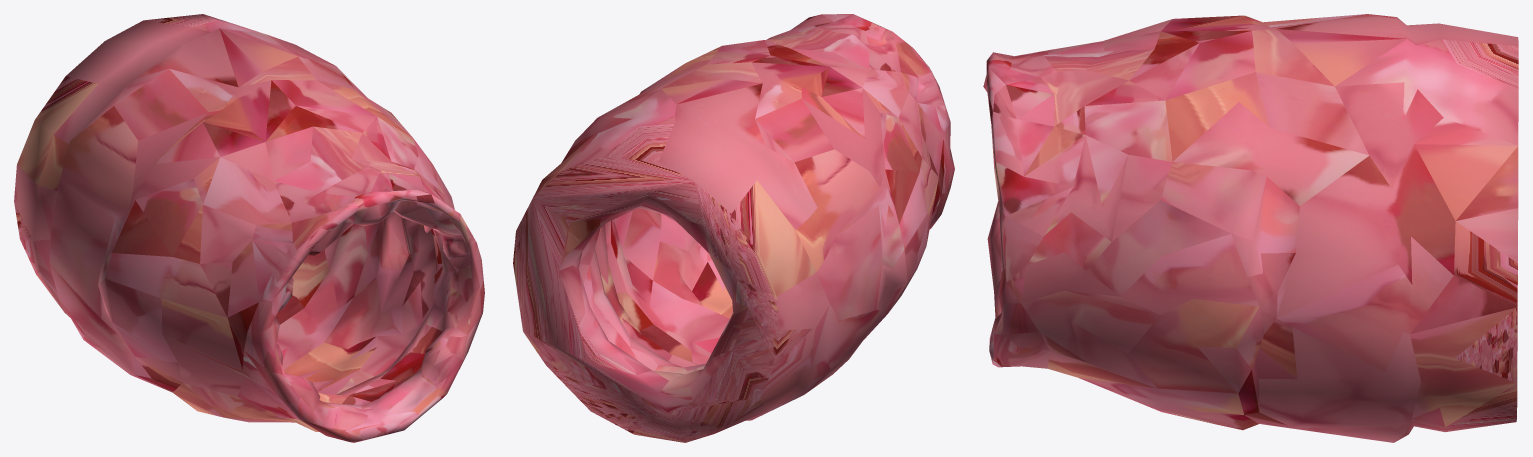
The model's file is Throat2.fbx.
3 renders of one model, left to right at view 1: azimuth 30°, elevation 25°; view 2: azimuth 150°, elevation 25°; view 3: azimuth 270°, elevation 25°, orthographic. The views are drawn at different scales.
Parts seen in each view (by area): view 1: Mesh_0.001; view 2: Mesh_0.001; view 3: Mesh_0.001.
Boxes of the visible parts, x1,y1,x2,y2 form: Mesh_0.001: [14, 14, 484, 442]; Mesh_0.001: [513, 14, 954, 442]; Mesh_0.001: [983, 14, 1518, 442].
Size of the model in its own units: 1.01 by 0.9955 by 1.22.
